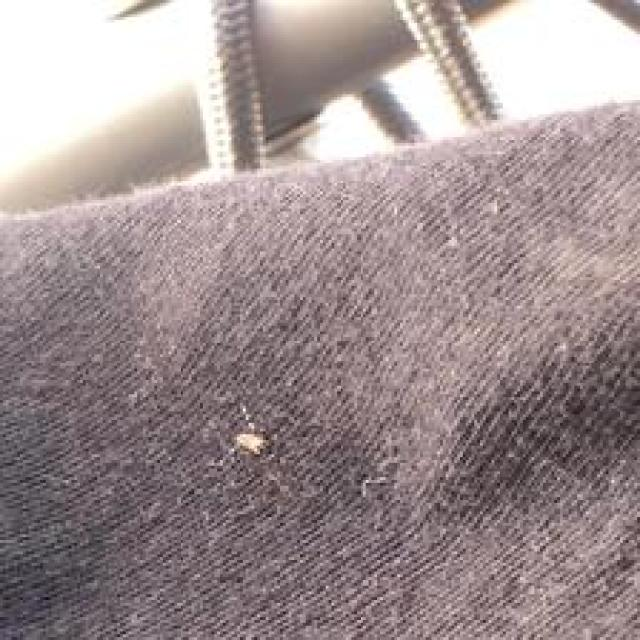Aedes albopictus: (101, 0, 638, 171)
